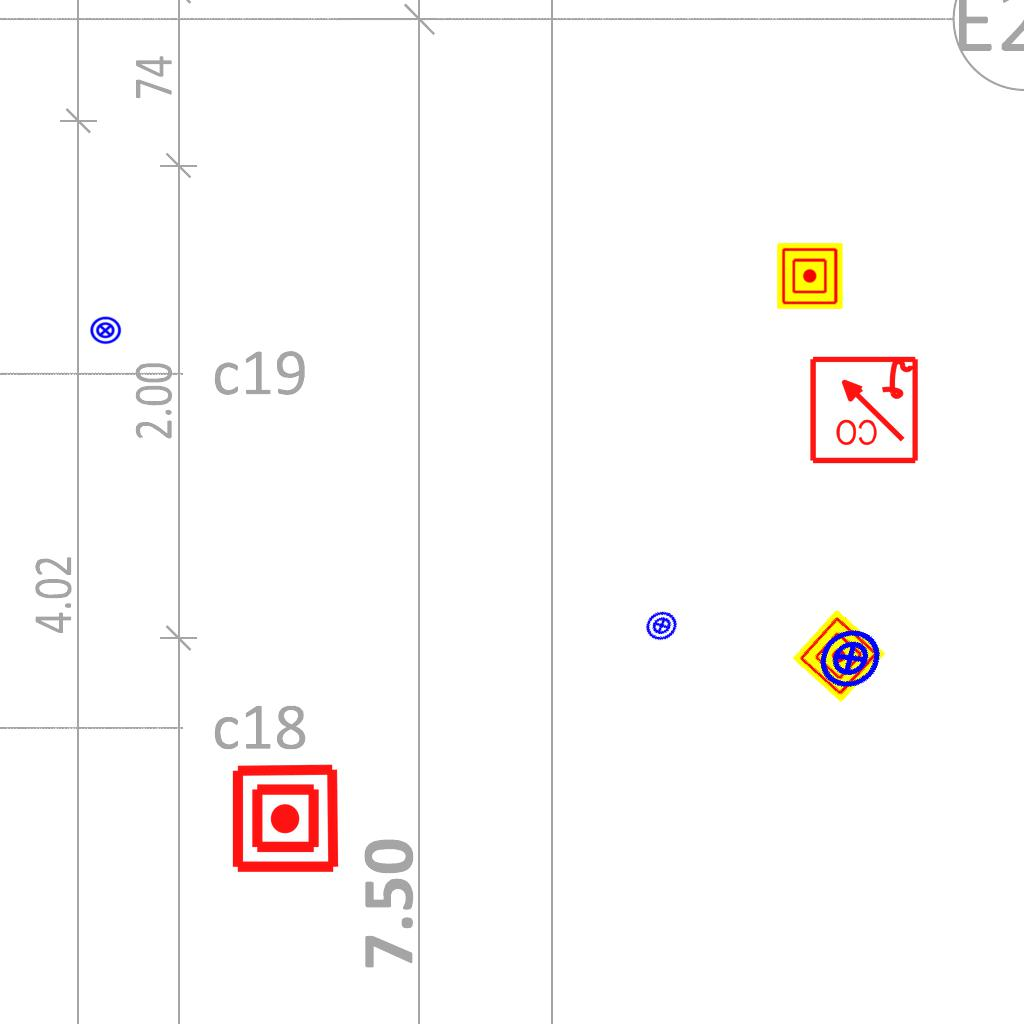NAM-Nichtautomatischer_Melder: (229, 762, 342, 875), (792, 609, 886, 703), (777, 243, 843, 309)
ROA_Rauchmelder_optisch_mit_Signalgeber_(Sockelsirene): (807, 352, 920, 465)
Taster_beleuchtet: (804, 612, 896, 704), (639, 603, 684, 648), (89, 314, 122, 347)
